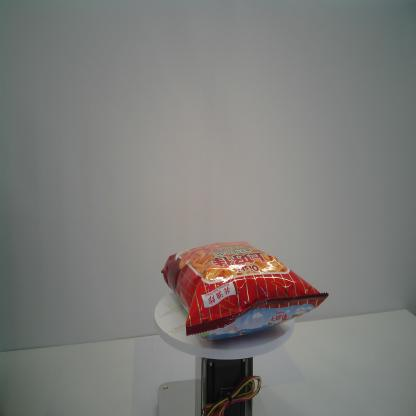Puffed Food: (161, 240, 330, 342)
